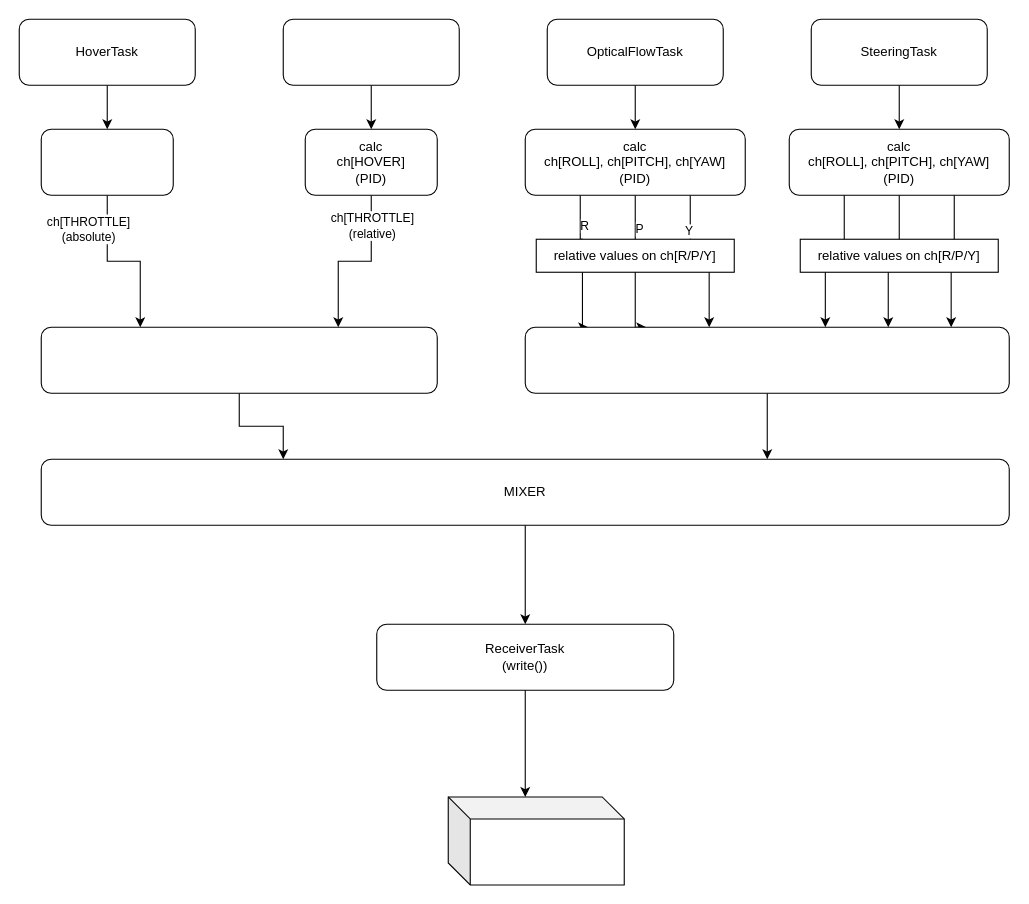
Some shapes in this 1029 by 904 pixel diagram are drawn without their labels. The shapes that lost their labels are listed below. From the top down, each one's box as (x1, y1, x2, y2) in pixels, then its label:
(282, 18, 459, 85): SurfaceDistanceTask
(40, 128, 173, 195): calc ch[HOVER] (Poti)
(40, 326, 437, 393): Hovering-Mixer
(524, 326, 1009, 393): RPY-Mixer
(447, 796, 624, 885): FlightController
